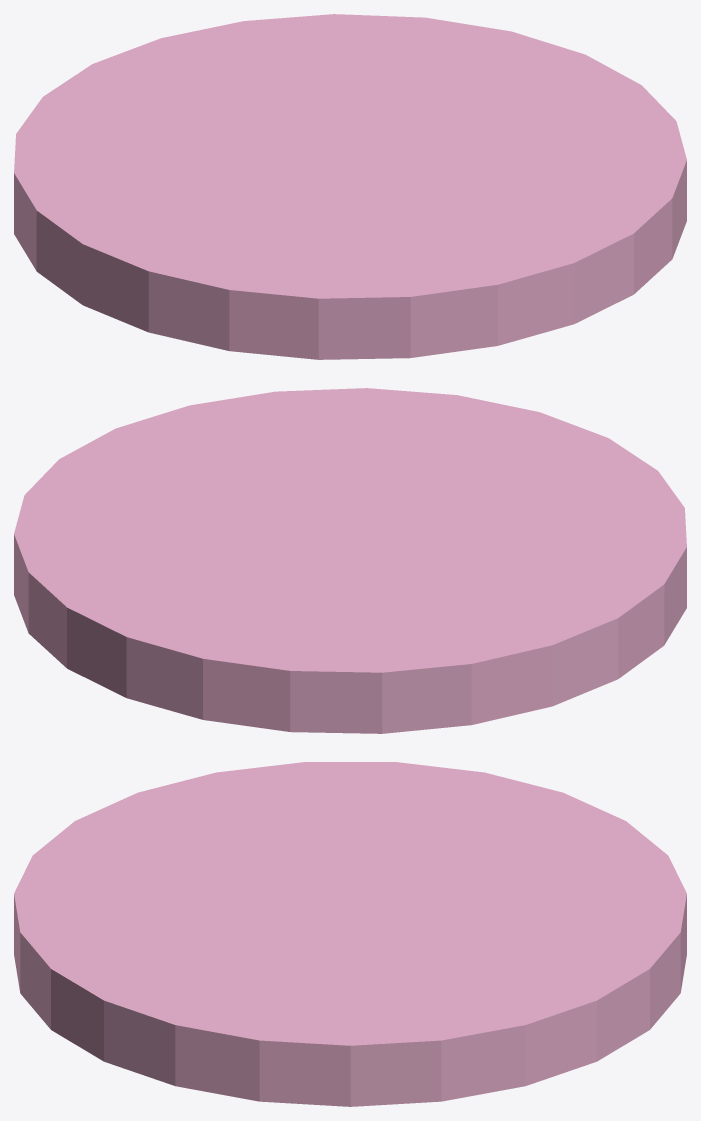
File: round_platform2.glb
The picture shows the model from 3 angles, top to bottom: view 1: azimuth 30°, elevation 25°; view 2: azimuth 150°, elevation 25°; view 3: azimuth 270°, elevation 25°; orthographic projection.
Size of the model in its own units: 0.9953 by 0.1 by 0.9977.
